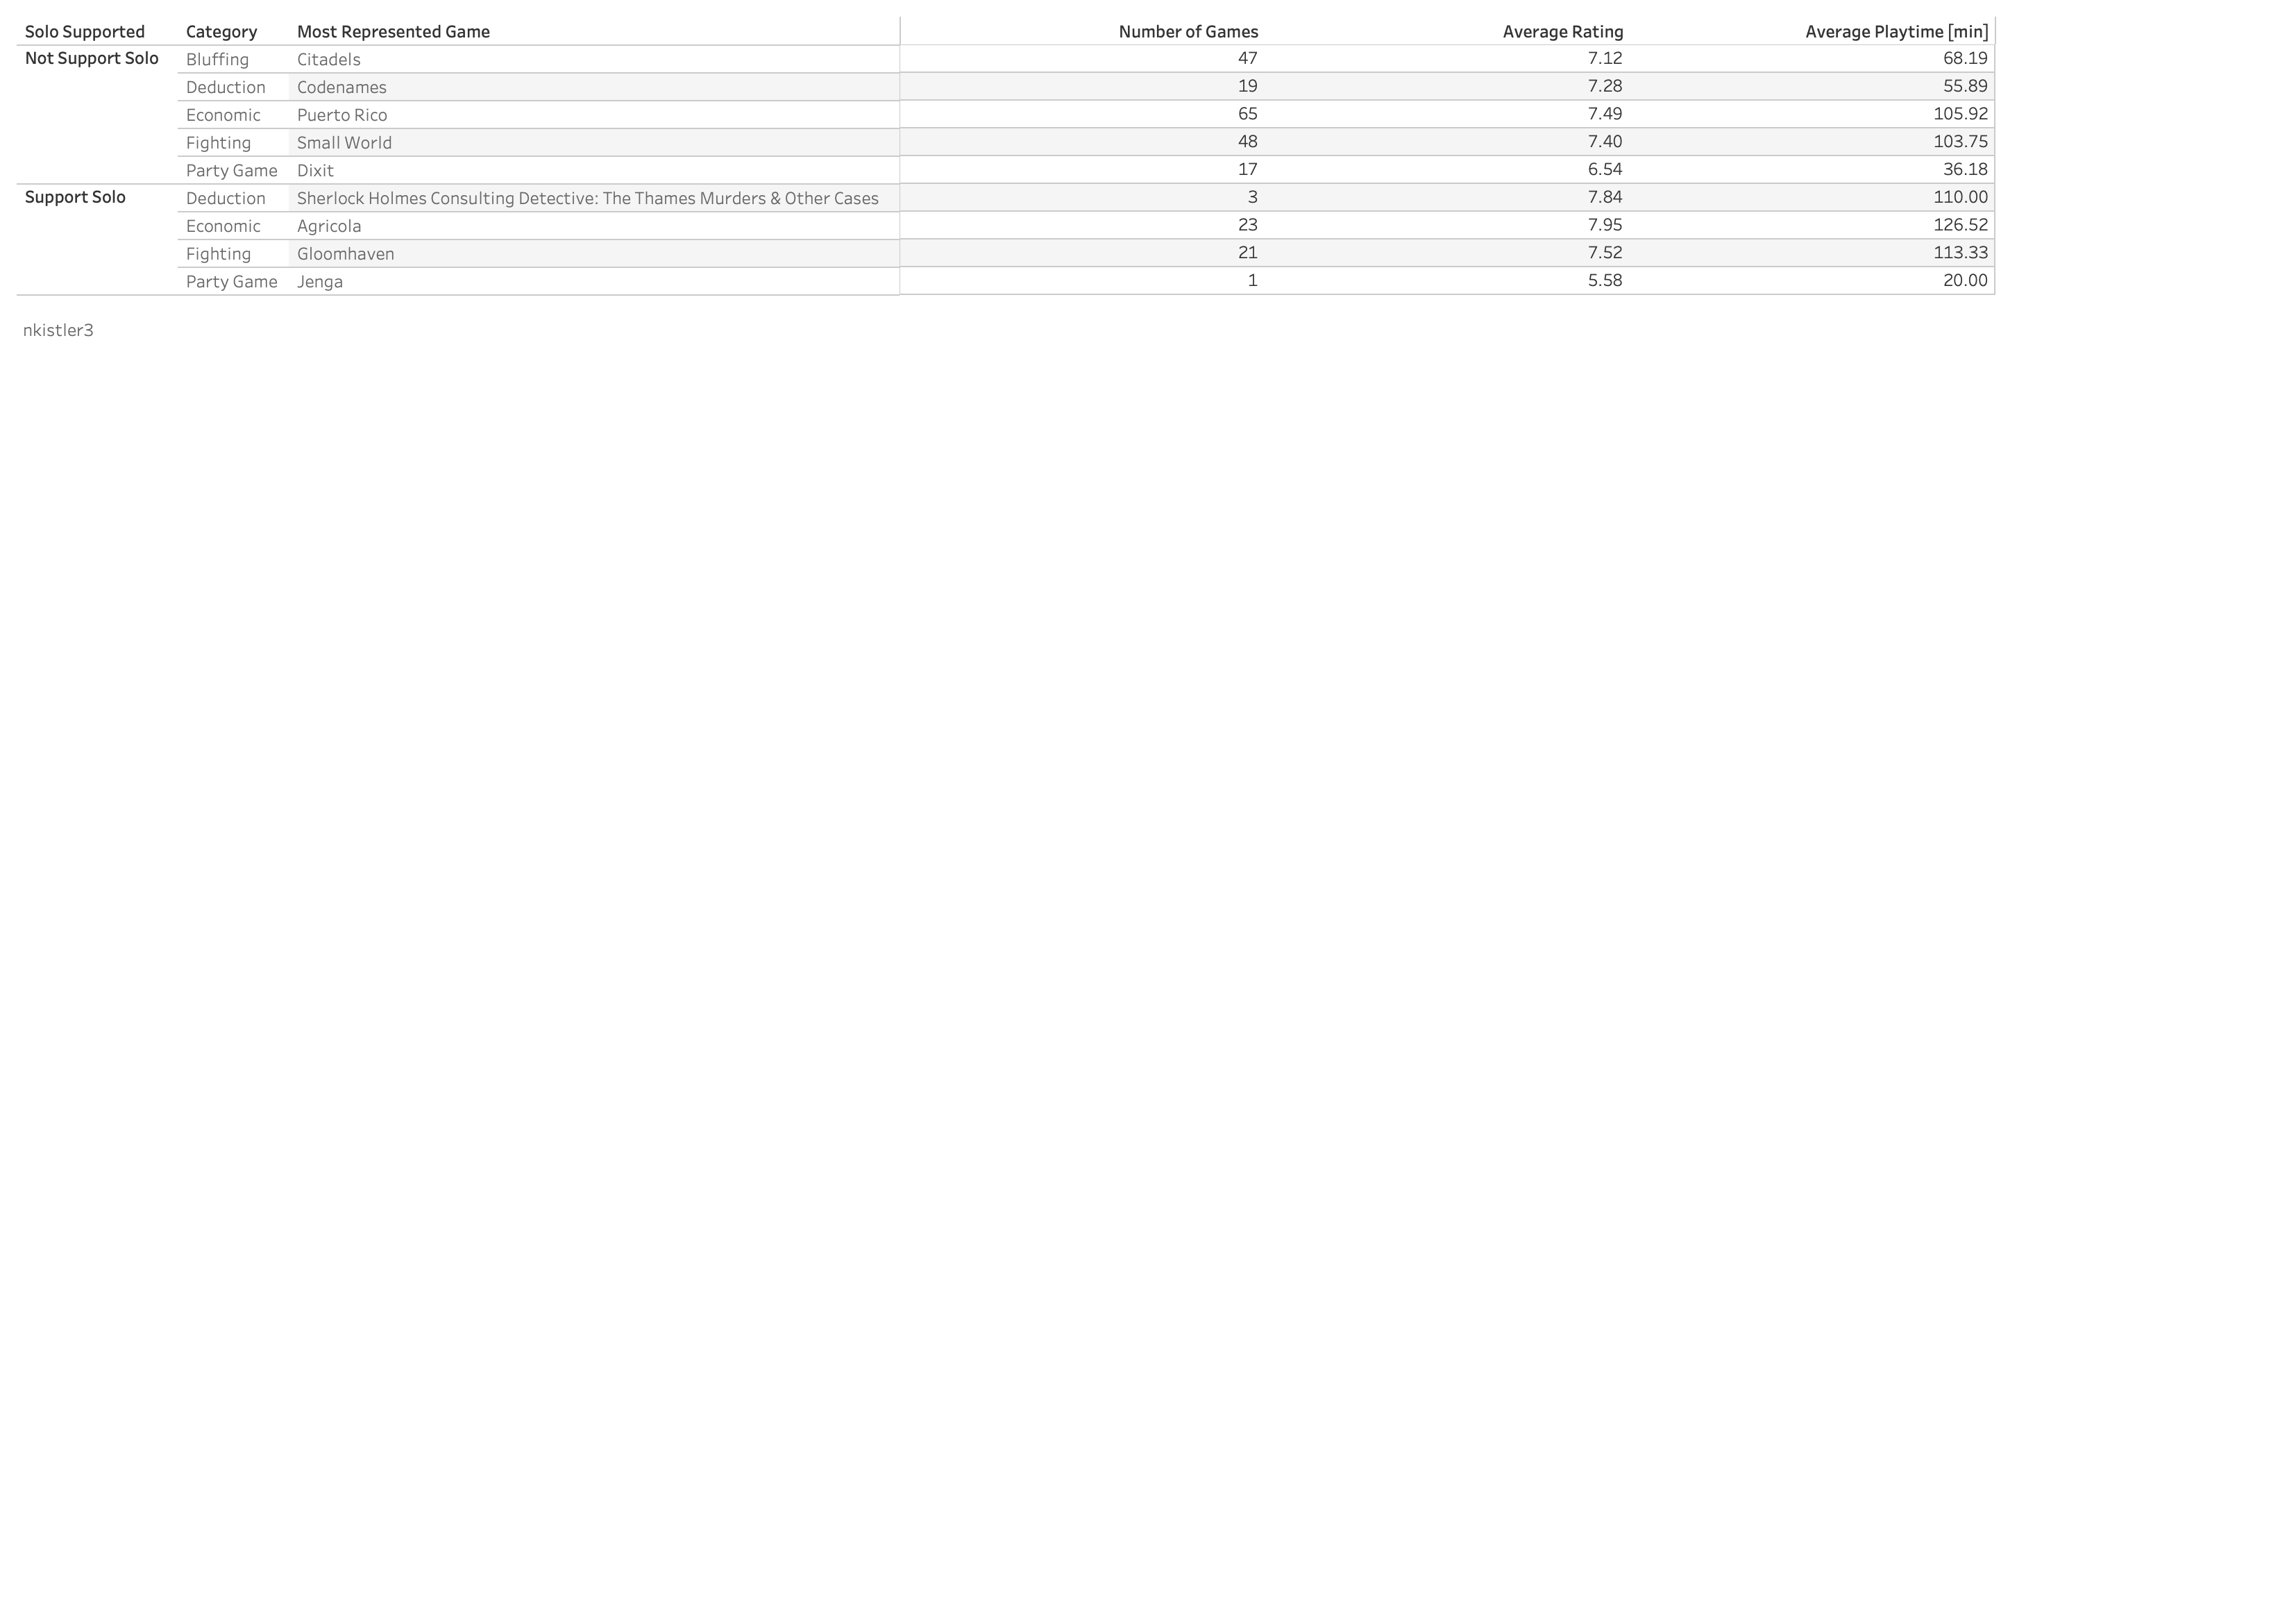

The page's visual inventory and layout, read from the dashboard file:
{"tool":"tableau","page":{"name":"Q1A","canvas":[1654,1169],"ordinal":0},"visuals":[{"type":"worksheet","title":"Sheet 1","mark":"Automatic","rows":["Calculation_3834744734027366400","category","Calculation_3834744734373654546"],"box":[8,8,1638,1153]},{"type":"text","box":[14,216,108,42]}]}

Visuals, with their boxes in screenshot pixels (x1, y1, x2, y2), scaled from the page's 1654x1169 canvas onto the 2296x1623 screenshot:
"Sheet 1" worksheet: left=11, top=11, right=2285, bottom=1612
text: left=19, top=300, right=169, bottom=358
